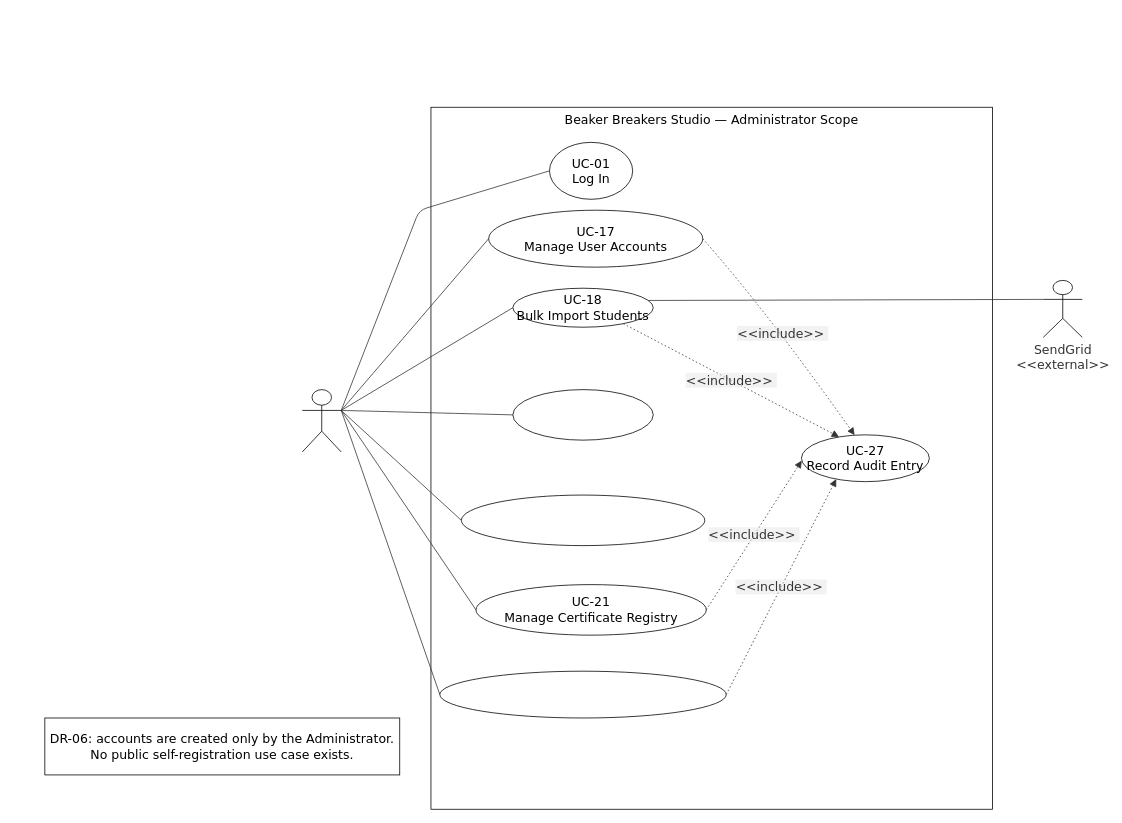
The diagram is 1122 pixels wide and 823 high, and some of its shapes have lost their labels. Each missing label, with the box of its shape:
Administrator: (301, 389, 341, 452)
UC-19 Manage Classes: (512, 389, 653, 440)
UC-20 Configure Experiment Library: (461, 494, 705, 546)
UC-22 Generate Analytics and Export Reports: (439, 670, 726, 718)
